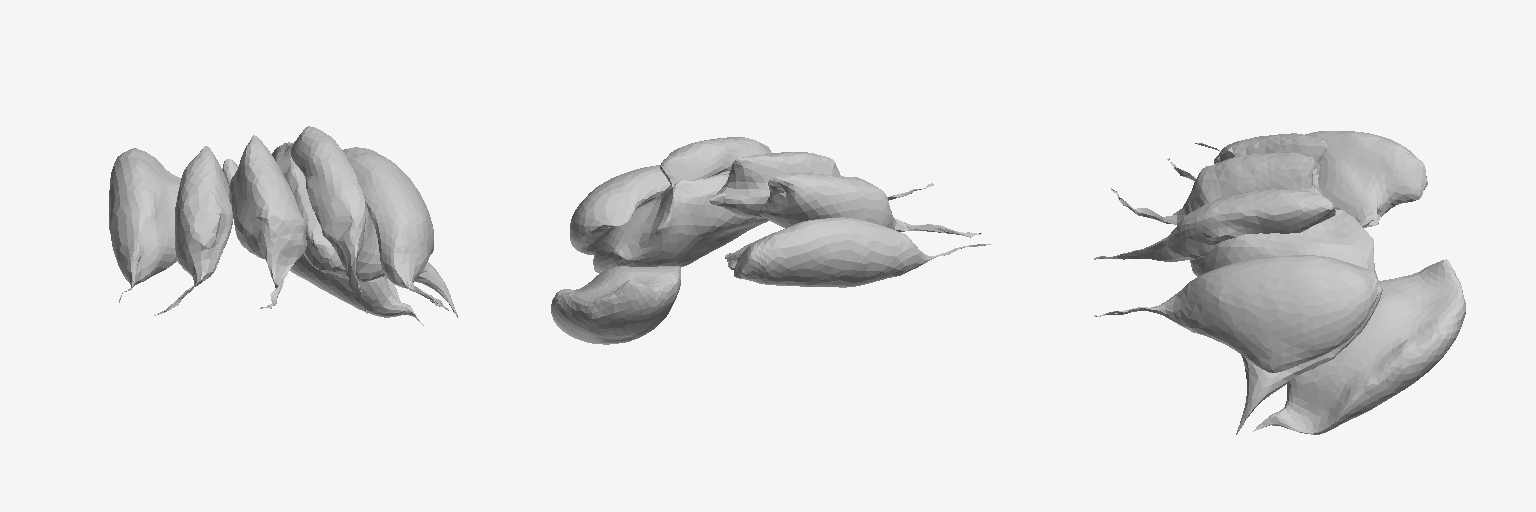
File: rand_3_muscle.obj
3 views of the same model, side by side, from view 1: azimuth 30°, elevation 25°; view 2: azimuth 150°, elevation 25°; view 3: azimuth 270°, elevation 25° (orthographic).
Size of the model in its own units: 95.28 by 52.93 by 85.03.